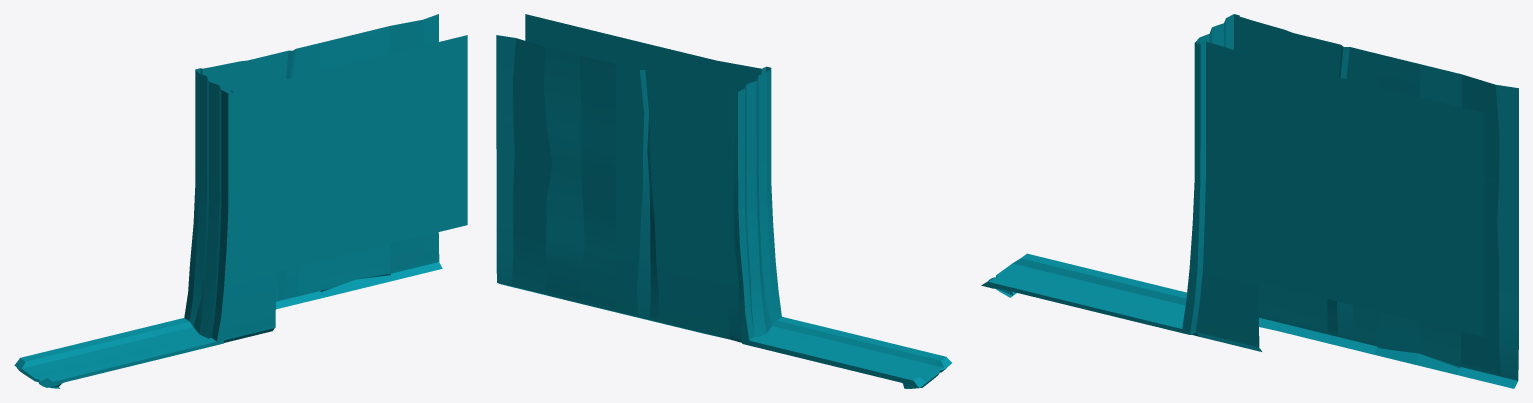
The model's file is Wall_left_nocrystals.fbx.
3 views of the same model, side by side, from view 1: azimuth 30°, elevation 25°; view 2: azimuth 150°, elevation 25°; view 3: azimuth 330°, elevation 25° (orthographic). The views are drawn at different scales.
Visible parts, largest first — view 1: Wall_left_no_crystals; view 2: Wall_left_no_crystals; view 3: Wall_left_no_crystals.
Part boxes in pixels (<box>): Wall_left_no_crystals: <box>14,14,467,388</box>; Wall_left_no_crystals: <box>496,14,951,388</box>; Wall_left_no_crystals: <box>981,14,1518,388</box>.
Bounding box in the file's own units: 11.4 × 6.71 × 1.56.
